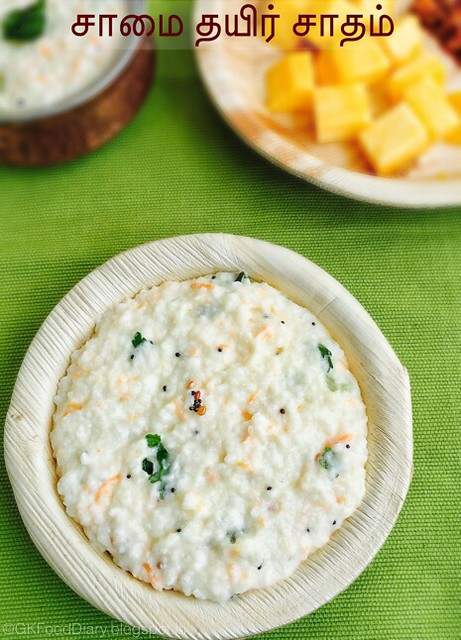curd_rice: (48, 265, 401, 590)
